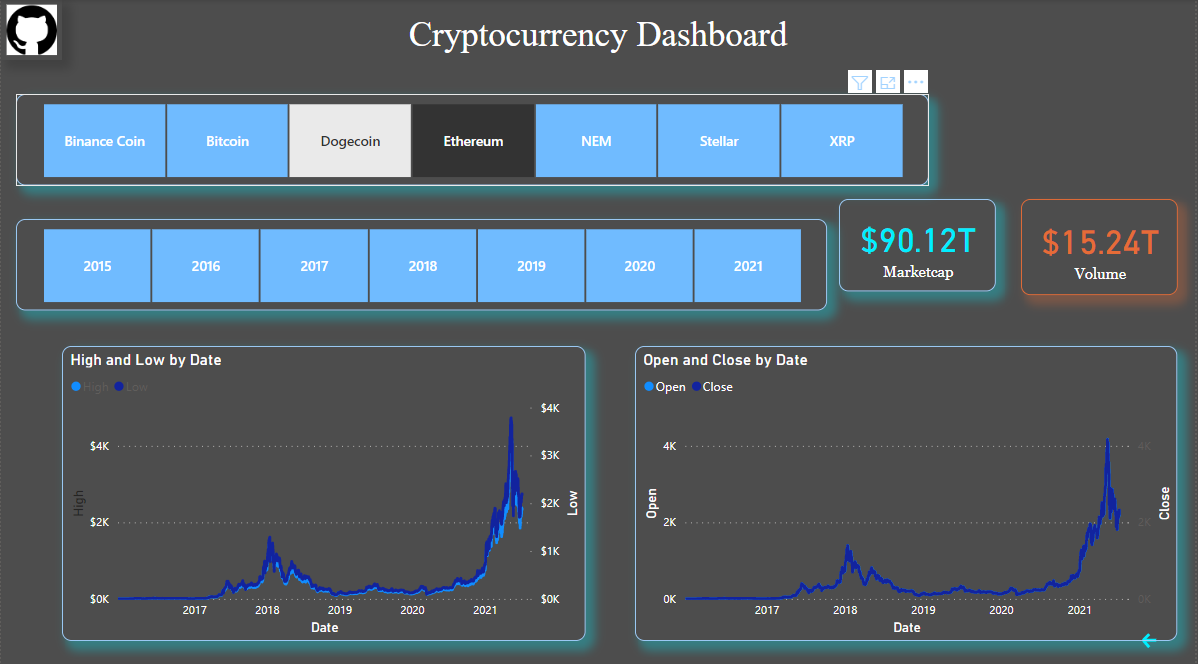

The dashboard page shown, as its layout file describes it:
{"tool":"powerbi","page":{"name":"Page 2","canvas":[1280,720],"ordinal":1},"visuals":[{"type":"slicer","fields":{"Values":["Sheet1.Name"]},"box":[16.6,100.7,977.8,98.2],"z":0},{"type":"slicer","fields":{"Values":["Sheet1.Year"]},"box":[16.6,234.6,869.5,98.2],"z":1000},{"type":"lineChart","fields":{"Category":["Sheet1.Date"],"Y":["Sum(Sheet1.High)"],"Y2":["Sum(Sheet1.Low)"]},"box":[65,371,561,316.2],"z":2000},{"type":"textbox","box":[408,10.2,462.8,58.6],"z":4000},{"type":"image","box":[0,0,65,63.7],"z":5000},{"type":"card","fields":{"Values":["Sum(Sheet1.Marketcap)"]},"box":[897.5,212.9,168.3,99.4],"z":6000},{"type":"card","fields":{"Values":["Sum(Sheet1.Volume)"]},"box":[1092.6,212.9,168.3,103.3],"z":9000},{"type":"actionButton","box":[1211.2,666.8,49.7,39.5],"z":13001},{"type":"lineChart","fields":{"Category":["Sheet1.Date"],"Y":["Sum(Sheet1.Open)"],"Y2":["Sum(Sheet1.Close)"]},"box":[679.5,371,581.4,316.2],"z":13002}]}

Visuals, with their boxes in screenshot pixels (x1, y1, x2, y2), scaled from the page's 1280x720 canvas onto the 1198x664 screenshot:
slicer - Sheet1.Name: box(16, 93, 931, 183)
slicer - Sheet1.Year: box(16, 216, 829, 307)
lineChart - Sheet1.Date x Sum(Sheet1.High): box(61, 342, 586, 634)
textbox: box(382, 9, 815, 63)
image: box(0, 0, 61, 59)
card - Sum(Sheet1.Marketcap): box(840, 196, 998, 288)
card - Sum(Sheet1.Volume): box(1023, 196, 1180, 292)
actionButton: box(1134, 615, 1180, 651)
lineChart - Sheet1.Date x Sum(Sheet1.Open): box(636, 342, 1180, 634)
